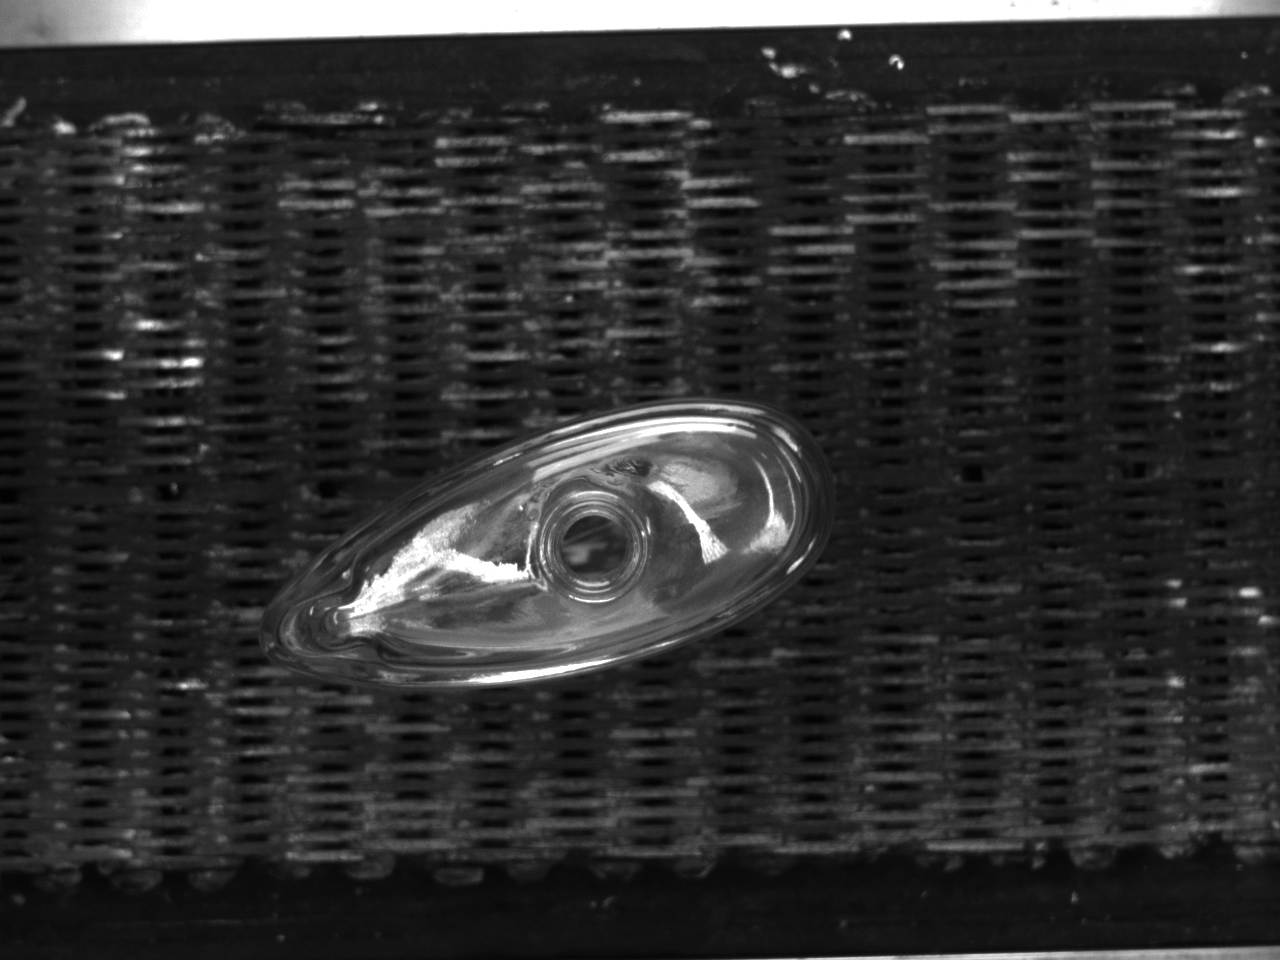bottleneck: (541, 489, 651, 603)
